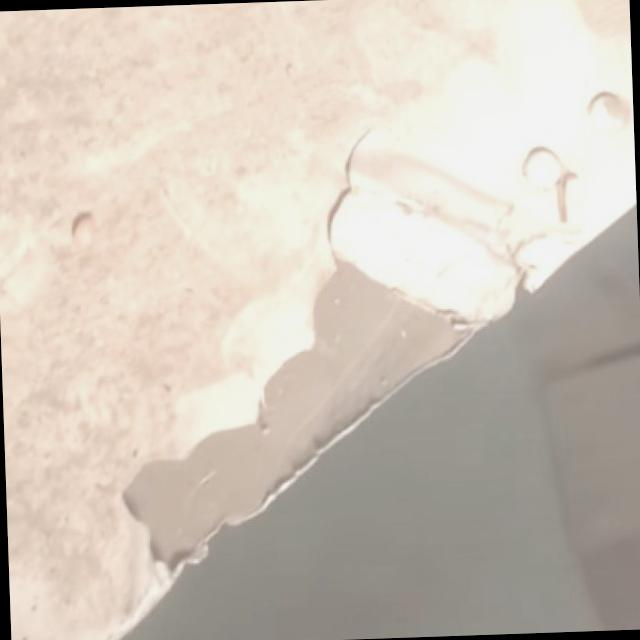crack: (298, 140, 370, 258)
